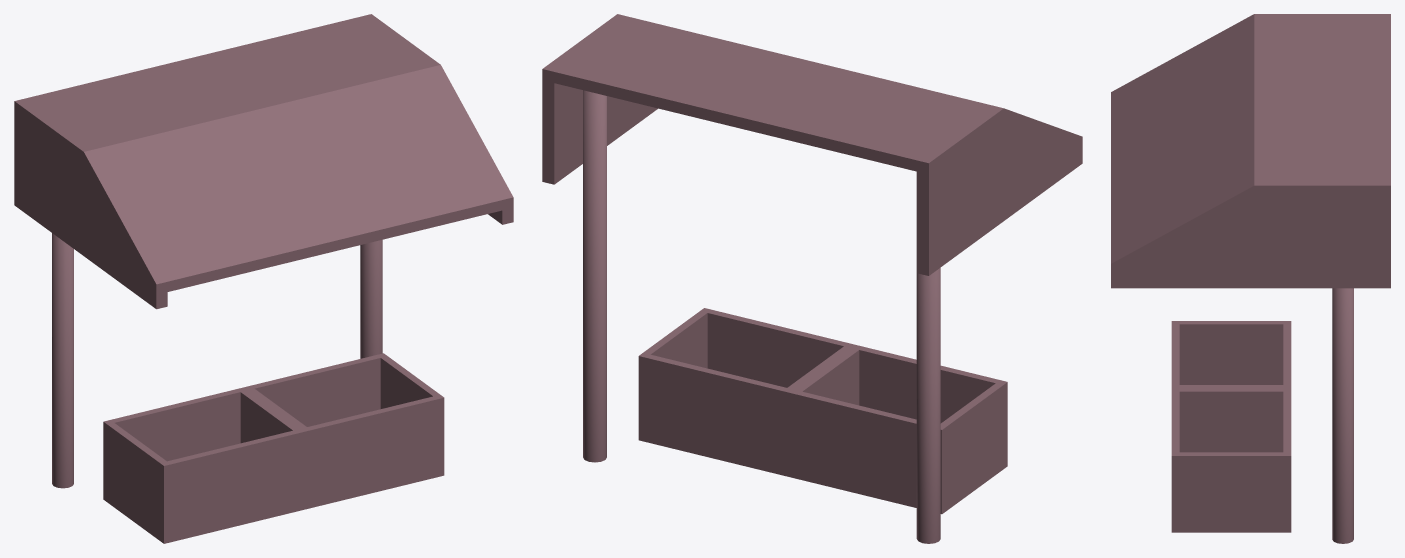
File: Stall.dae
3 views of the same model, side by side, from view 1: azimuth 30°, elevation 25°; view 2: azimuth 150°, elevation 25°; view 3: azimuth 270°, elevation 25° (orthographic). The views are drawn at different scales.
Parts seen in each view (by area): view 1: Stall; view 2: Stall; view 3: Stall.
Part boxes in pixels (box(x1,y1,x2,y2)): Stall: box(14, 14, 513, 543); Stall: box(542, 14, 1082, 543); Stall: box(1111, 14, 1390, 543).
Bounding box in the file's own units: 2.55 × 1.76 × 2.53.
